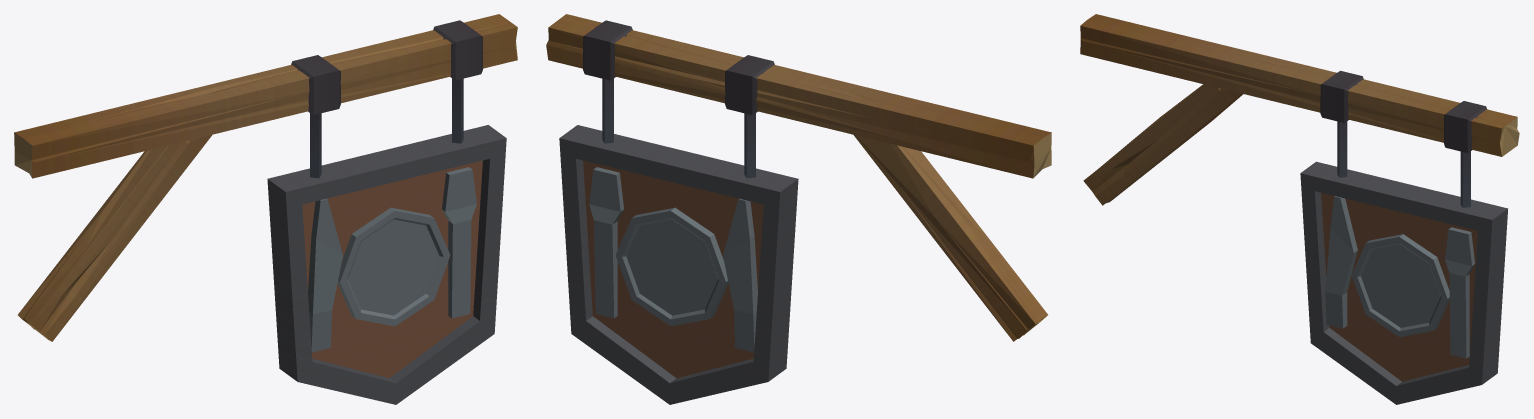
The model's file is SignBoard_4.fbx.
3 views of the same model, side by side, from view 1: azimuth 30°, elevation 25°; view 2: azimuth 150°, elevation 25°; view 3: azimuth 330°, elevation 25° (orthographic). The views are drawn at different scales.
Parts seen in each view (by area): view 1: polySurface10647; view 2: polySurface10647; view 3: polySurface10647.
Part boxes in pixels (bbox=[...]): polySurface10647: bbox=[14, 14, 517, 404]; polySurface10647: bbox=[546, 14, 1051, 404]; polySurface10647: bbox=[1080, 14, 1519, 404].
Bounding box in the file's own units: 309 × 212 × 23.29.
